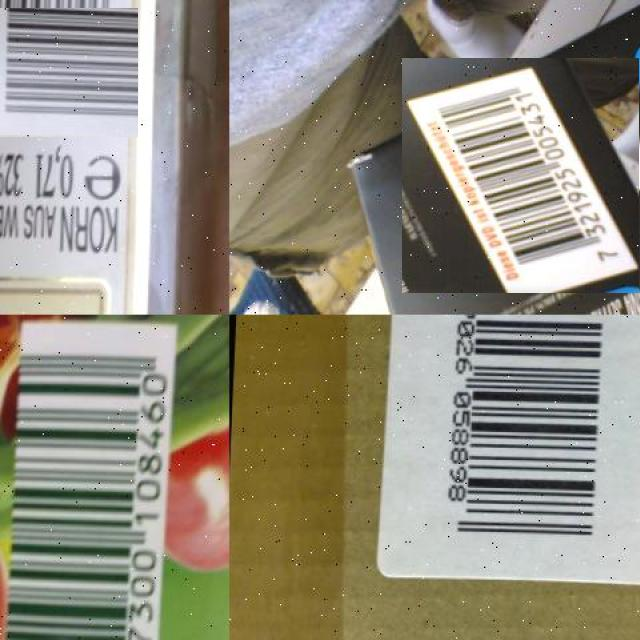Barcode: (403, 57, 640, 295), (0, 319, 169, 640), (425, 315, 619, 557), (0, 4, 134, 142)
